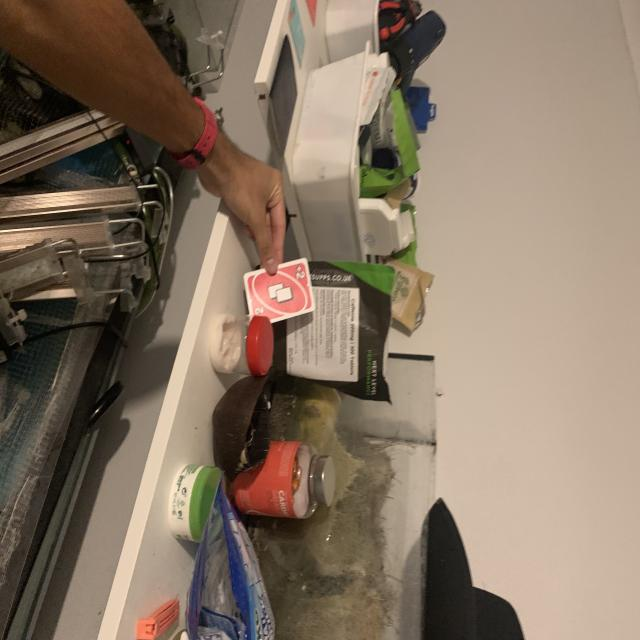lred-20: (291, 262, 308, 282)
